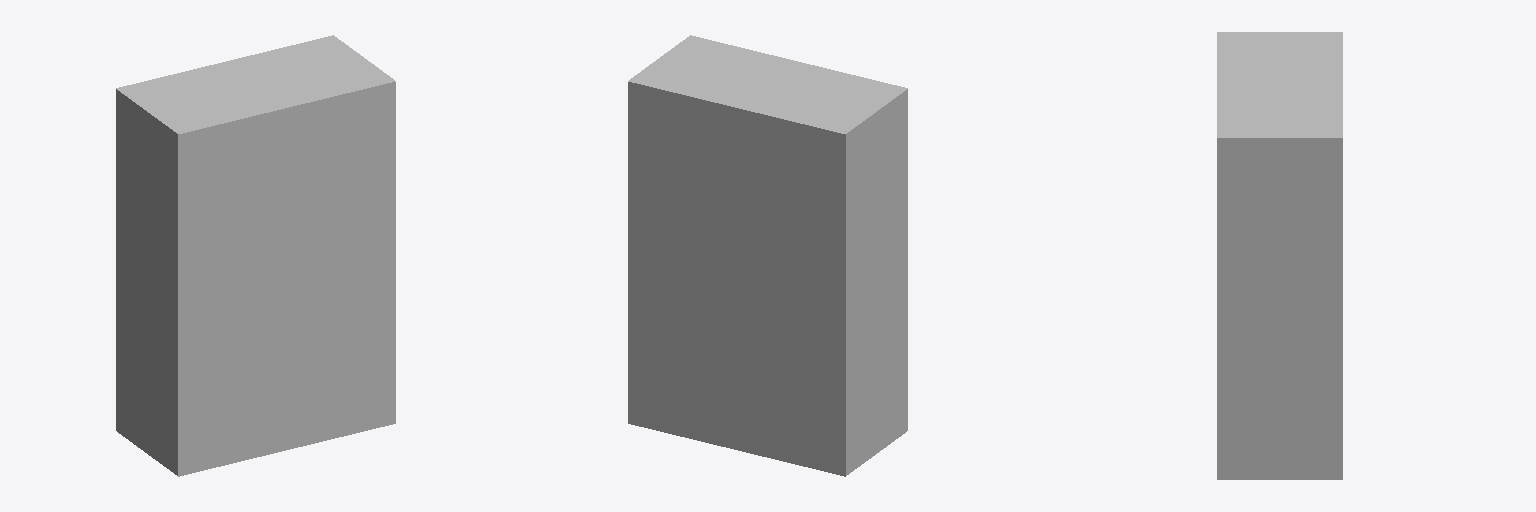
The model's file is door.obj.
3 views of the same model, side by side, from view 1: azimuth 30°, elevation 25°; view 2: azimuth 150°, elevation 25°; view 3: azimuth 270°, elevation 25° (orthographic).
Visible parts, largest first — view 1: Default; view 2: Default; view 3: Default.
Part boxes in pixels (x1,y1,x2,y2): Default: (116,35,395,476); Default: (628,35,907,476); Default: (1217,32,1342,479).
Size of the model in its own units: 2 by 3 by 1.